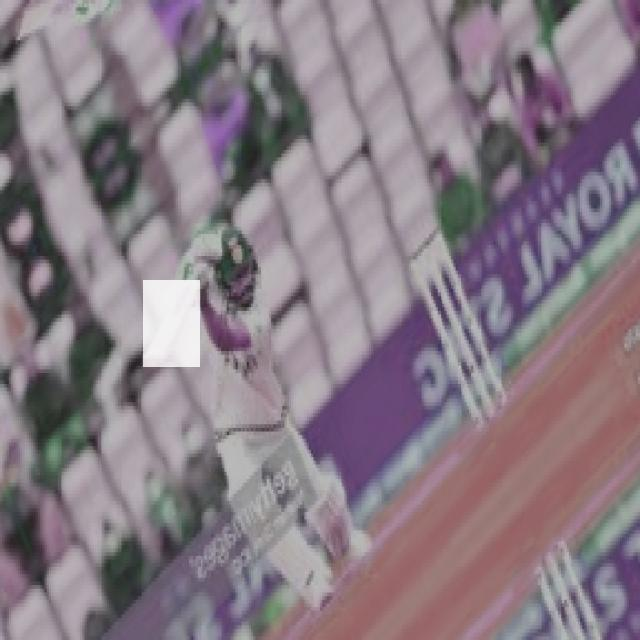bat: (146, 278, 201, 367)
